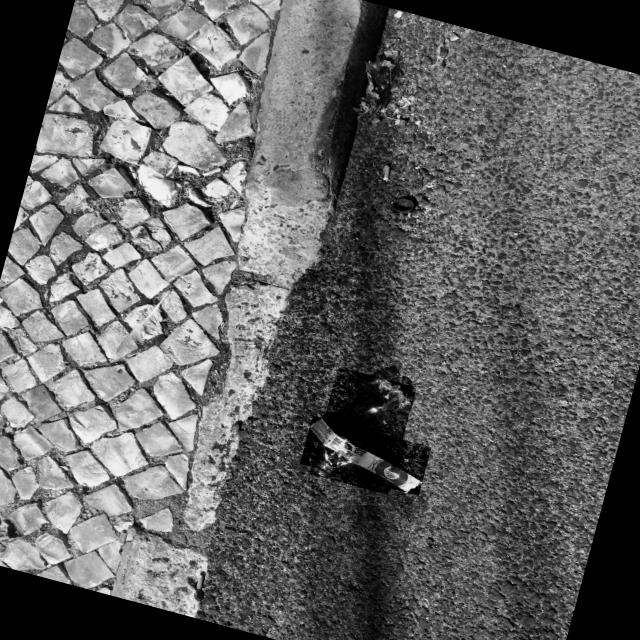Bottle cap: (391, 199, 413, 214)
Cigarette: (165, 163, 176, 176), (195, 575, 204, 590), (119, 532, 126, 545), (382, 166, 388, 181)
Clear plastic bottle: (310, 378, 410, 478)
Paper bag: (309, 418, 421, 492)
